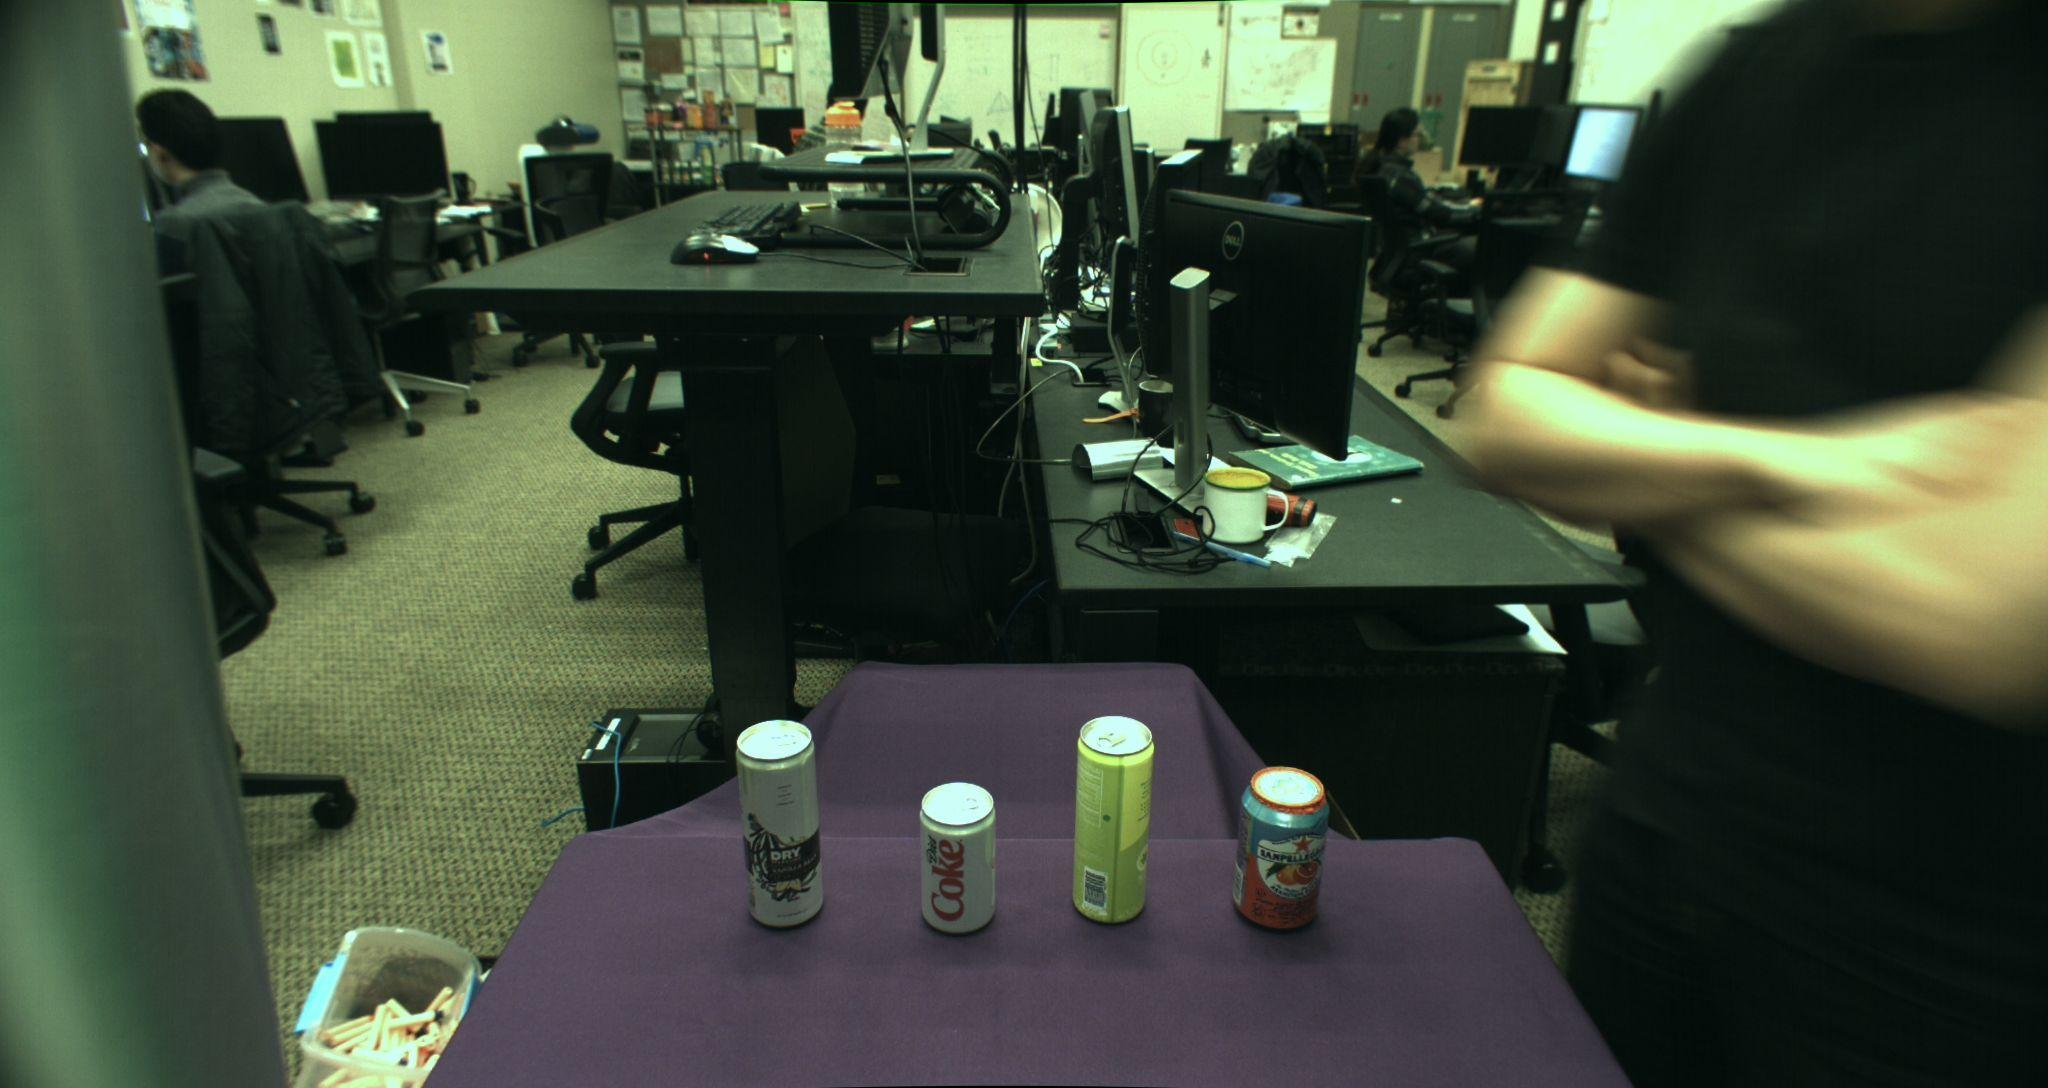can_diet_coke_small: (918, 780, 998, 934)
can_dry_sparkling_vanilla_bean: (737, 721, 826, 929)
can_izze_fusions_lemon_lime: (1071, 714, 1155, 925)
can_sanpellegrino_blood_orange: (1233, 766, 1331, 932)
